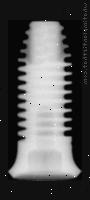BioHorizons: (8, 20, 82, 180)
